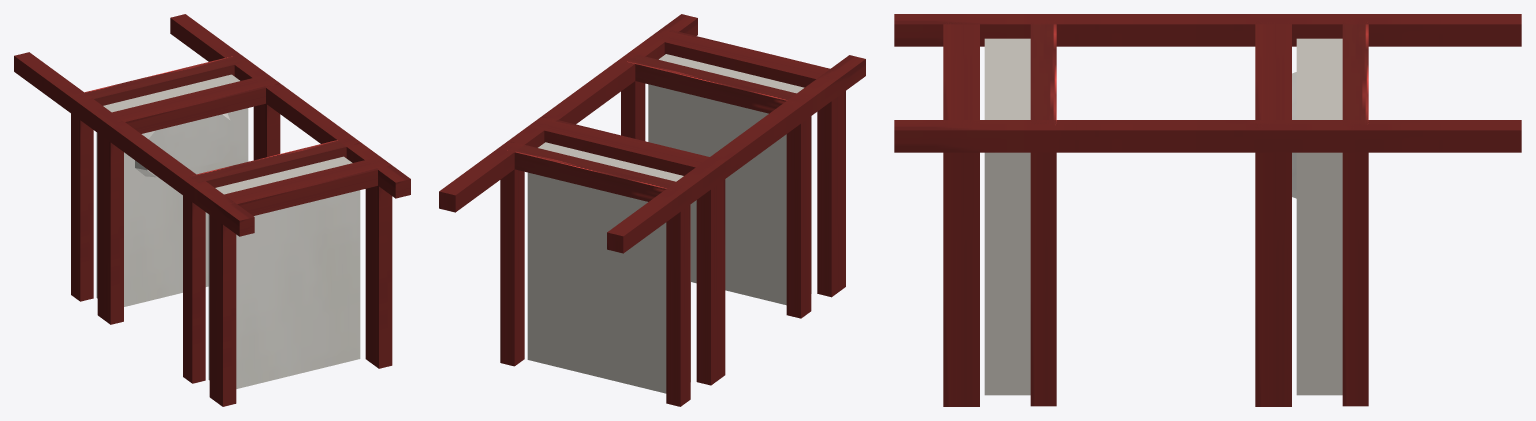
Rendered from pz_house_bunk_red_head.obj.
3 views of the same model, side by side, from view 1: azimuth 30°, elevation 25°; view 2: azimuth 150°, elevation 25°; view 3: azimuth 270°, elevation 25° (orthographic). The views are drawn at different scales.
Visible parts, largest first — view 1: upper_mattress, lower_mattress, end_post_left, end_post_right, upper_mattress_guard_left, upper_mattress_guard_right_0, lower_pillow_guard_left, lower_long_frame_left, upper_long_frame_left, upper_mattress_guard_end, lower_pillow_guard_end, lower_pillow (+3 smaller); view 2: lower_mattress, upper_mattress, end_post_left, end_post_right, lower_pillow_guard_left, upper_mattress_guard_left, upper_long_frame_left, lower_long_frame_right, lower_long_frame_left, upper_end_frame, lower_end_frame, upper_mattress_guard_end (+2 smaller); view 3: end_post_right, end_post_left, lower_mattress, upper_mattress, lower_pillow_guard_right_0, upper_mattress_guard_right_0, upper_long_frame_right, lower_long_frame_right, lower_pillow_guard_end, upper_mattress_guard_end, lower_end_frame, upper_end_frame.
Boxes of the visible parts, left/top/right/bottom form: upper_mattress: left=208, top=156, right=360, bottom=388; lower_mattress: left=96, top=74, right=248, bottom=306; end_post_left: left=14, top=52, right=254, bottom=236; end_post_right: left=170, top=14, right=410, bottom=198; upper_mattress_guard_left: left=209, top=195, right=236, bottom=406; upper_mattress_guard_right_0: left=365, top=157, right=392, bottom=368; lower_pillow_guard_left: left=97, top=115, right=123, bottom=324; lower_long_frame_left: left=71, top=92, right=93, bottom=301; upper_long_frame_left: left=183, top=175, right=205, bottom=383; upper_mattress_guard_end: left=219, top=158, right=379, bottom=215; lower_pillow_guard_end: left=107, top=77, right=270, bottom=133; lower_pillow: left=135, top=113, right=230, bottom=177; lower_mattress: left=527, top=142, right=690, bottom=393; upper_mattress: left=648, top=54, right=811, bottom=305; end_post_left: left=607, top=55, right=865, bottom=253; end_post_right: left=439, top=14, right=697, bottom=212; lower_pillow_guard_left: left=696, top=159, right=725, bottom=385; upper_mattress_guard_left: left=817, top=71, right=845, bottom=297; upper_long_frame_left: left=786, top=96, right=811, bottom=318; lower_long_frame_right: left=500, top=141, right=524, bottom=366; lower_long_frame_left: left=666, top=184, right=690, bottom=406; upper_end_frame: left=627, top=55, right=796, bottom=113; lower_end_frame: left=507, top=145, right=680, bottom=201; upper_mattress_guard_end: left=662, top=30, right=836, bottom=87; end_post_right: left=894, top=120, right=1521, bottom=152; end_post_left: left=894, top=14, right=1521, bottom=46; lower_mattress: left=1296, top=38, right=1342, bottom=395; upper_mattress: left=984, top=38, right=1030, bottom=395; lower_pillow_guard_right_0: left=1255, top=120, right=1291, bottom=406; upper_mattress_guard_right_0: left=943, top=120, right=979, bottom=406; upper_long_frame_right: left=1030, top=120, right=1056, bottom=406; lower_long_frame_right: left=1342, top=120, right=1368, bottom=406; lower_pillow_guard_end: left=1255, top=20, right=1291, bottom=125; upper_mattress_guard_end: left=943, top=20, right=979, bottom=124; lower_end_frame: left=1342, top=19, right=1368, bottom=125; upper_end_frame: left=1030, top=19, right=1056, bottom=124.
Size of the model in its own units: 0.9 by 1 by 2.05.
Materials: 1 (1 with a texture image).
